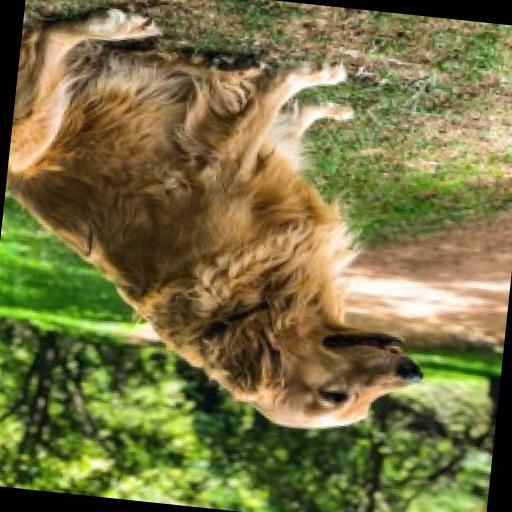dog: (0, 0, 463, 443)
